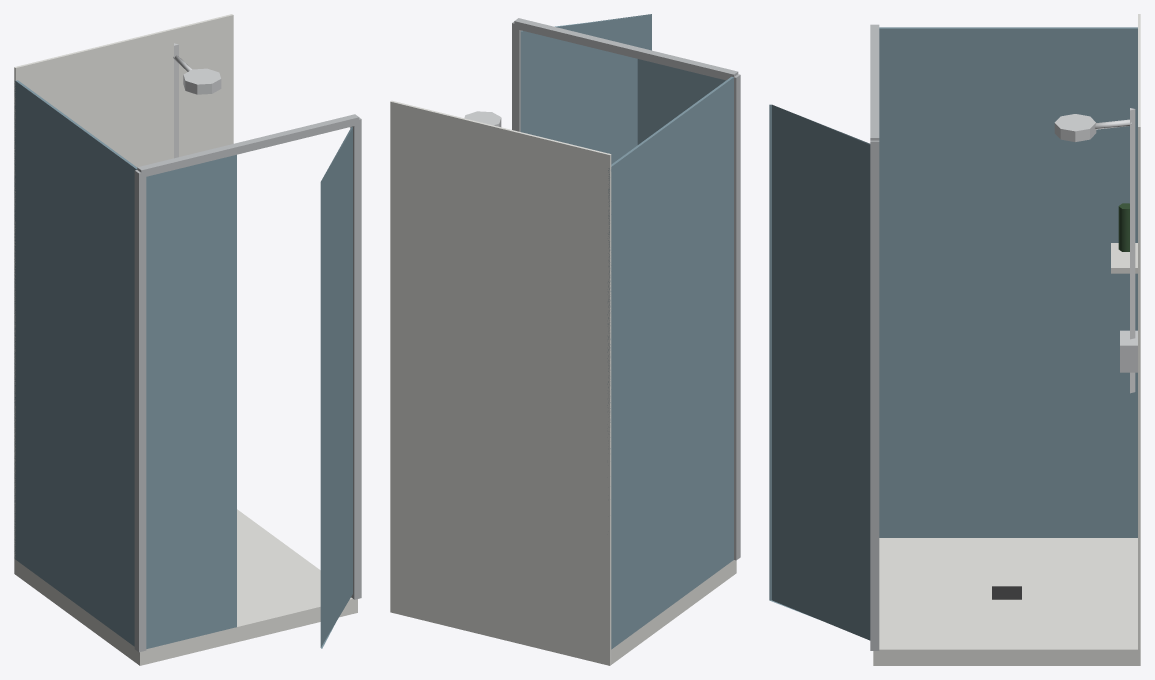
The model's file is shower.glb.
3 views of the same model, side by side, from view 1: azimuth 30°, elevation 25°; view 2: azimuth 150°, elevation 25°; view 3: azimuth 270°, elevation 25° (orthographic). The views are drawn at different scales.
Parts seen in each view (by area): view 1: shower; view 2: shower; view 3: shower.
Part boxes in pixels (x1,y1,x2,y2): shower: [14, 14, 361, 665]; shower: [390, 14, 740, 665]; shower: [769, 14, 1140, 665].
Bounding box in the file's own units: 0.92 × 2 × 1.25.
1 material, 1 textured.
